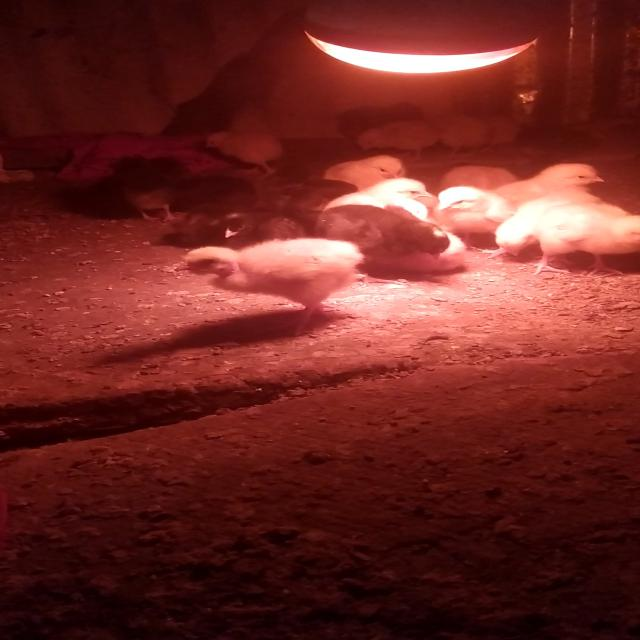chick: (172, 237, 370, 338), (310, 204, 470, 287), (526, 204, 640, 277), (106, 156, 190, 225), (486, 163, 613, 203), (426, 186, 513, 236), (204, 130, 289, 180), (328, 101, 427, 139), (356, 121, 444, 161), (211, 212, 308, 248), (322, 155, 406, 188), (434, 164, 519, 192)
objects: (293, 2, 546, 75)
